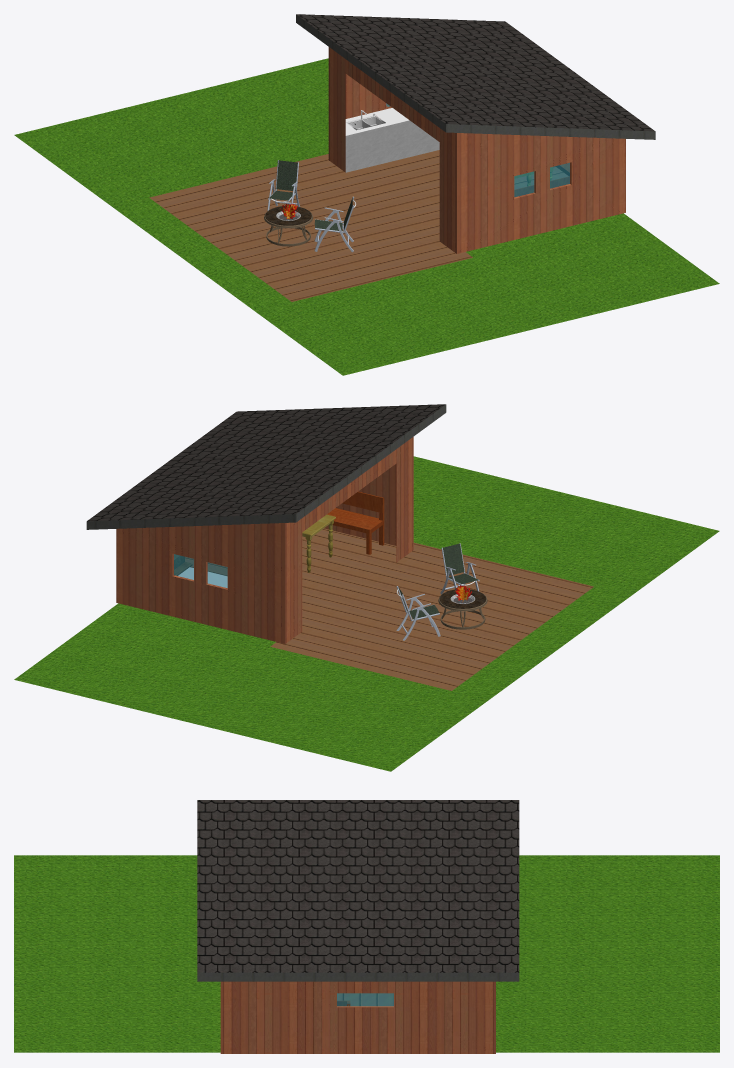
Rendered from Gapahuk1.glb.
3 renders of one model, top to bottom at view 1: azimuth 30°, elevation 25°; view 2: azimuth 150°, elevation 25°; view 3: azimuth 270°, elevation 25°, orthographic. The views are drawn at different scales.
Parts seen in each view (by area): view 1: object 36, Garden Chair (×2); view 2: object 36, Garden Chair (×2), Component; view 3: object 36.
Boxes of the visible parts, x1=… form: object 36: x1=14, y1=14, x2=719, y2=375; Garden Chair (×2): x1=267, y1=160, x2=354, y2=252; object 36: x1=14, y1=404, x2=719, y2=771; Garden Chair (×2): x1=396, y1=543, x2=479, y2=640; Component: x1=327, y1=491, x2=384, y2=554; object 36: x1=14, y1=800, x2=719, y2=1053.
Bounding box in the file's own units: 7.35 × 2.54 × 10.52.
Materials: 43 (35 with a texture image).
